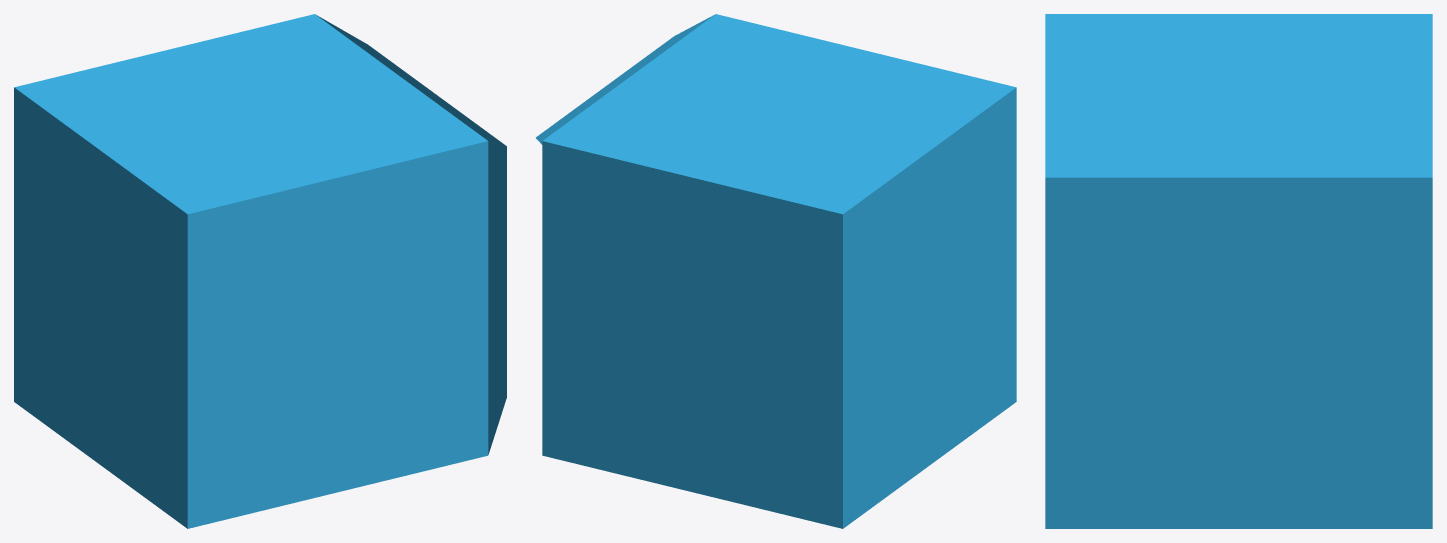
File: forward-inset.glb
The picture shows the model from 3 angles, left to right: view 1: azimuth 30°, elevation 25°; view 2: azimuth 150°, elevation 25°; view 3: azimuth 270°, elevation 25°; orthographic projection. The views are drawn at different scales.
Parts seen in each view (by area): view 1: Studio_Cube; view 2: Studio_Cube; view 3: Studio_Cube.
Part boxes in pixels (x1,y1,x2,y2): Studio_Cube: (14,14,506,528); Studio_Cube: (535,14,1016,528); Studio_Cube: (1045,14,1432,528).
Size of the model in its own units: 1.1 by 1 by 1.
